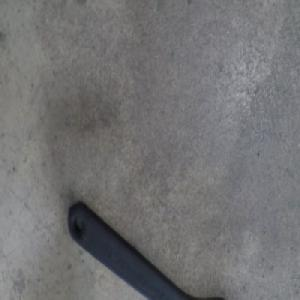AdjustableWrench: (66, 199, 210, 299)
